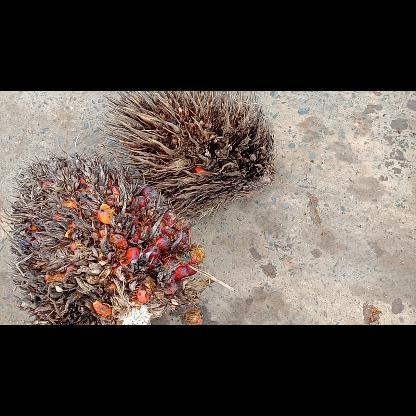Janjang kosong: (98, 91, 276, 219)
Terlalu masak: (0, 150, 213, 325)
